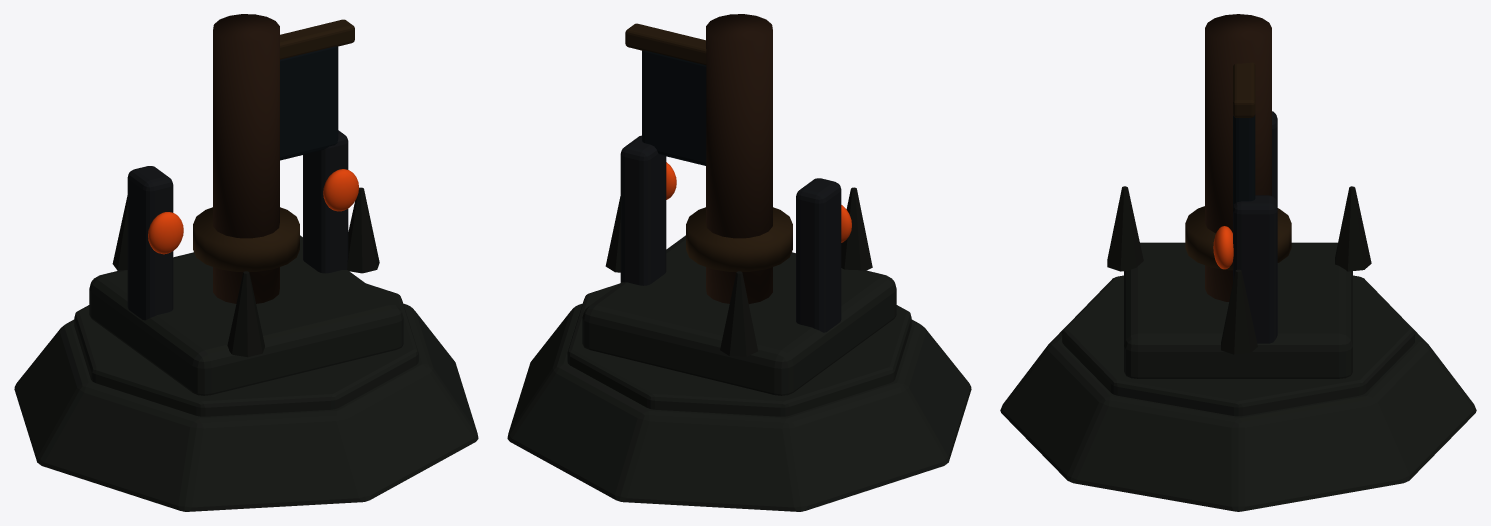
The model's file is TowerAura1_pose.obj.
The picture shows the model from 3 angles, left to right: view 1: azimuth 30°, elevation 25°; view 2: azimuth 150°, elevation 25°; view 3: azimuth 270°, elevation 25°; orthographic projection.
Visible parts, largest first — view 1: circular_stone_dais_lower_course, carved_stone_root, oak_banner_mast, circular_stone_dais_upper_course, dark_command_banner, iron_ritual_pillar, iron_ritual_pillar.001, bronze_mast_collar, bone_command_ward.002, bronze_banner_bar, bone_command_ward, amber_pillar_rune.001 (+2 smaller); view 2: circular_stone_dais_lower_course, carved_stone_root, oak_banner_mast, circular_stone_dais_upper_course, iron_ritual_pillar, dark_command_banner, iron_ritual_pillar.001, bronze_mast_collar, bronze_banner_bar, bone_command_ward.001, bone_command_ward.002, bone_command_ward; view 3: circular_stone_dais_lower_course, carved_stone_root, circular_stone_dais_upper_course, oak_banner_mast, iron_ritual_pillar.001, bronze_mast_collar, bone_command_ward, dark_command_banner, bone_command_ward.001, bone_command_ward.002, bronze_banner_bar, amber_pillar_rune.001.
Part boxes in pixels (x1,y1,x2,y2): circular_stone_dais_lower_course: (14, 303, 478, 511); carved_stone_root: (89, 235, 403, 395); oak_banner_mast: (213, 14, 279, 303); circular_stone_dais_upper_course: (74, 283, 418, 416); dark_command_banner: (280, 46, 338, 160); iron_ritual_pillar: (127, 166, 173, 320); iron_ritual_pillar.001: (303, 130, 348, 273); bronze_mast_collar: (193, 207, 299, 271); bone_command_ward.002: (227, 271, 264, 357); bronze_banner_bar: (280, 19, 354, 59); bone_command_ward: (347, 187, 379, 273); amber_pillar_rune.001: (323, 169, 358, 211); circular_stone_dais_lower_course: (507, 303, 971, 511); carved_stone_root: (582, 235, 896, 395); oak_banner_mast: (706, 14, 772, 303); circular_stone_dais_upper_course: (567, 283, 911, 416); iron_ritual_pillar: (796, 178, 841, 332); dark_command_banner: (642, 50, 706, 165); iron_ritual_pillar.001: (620, 135, 666, 285); bronze_mast_collar: (686, 207, 792, 271); bronze_banner_bar: (625, 23, 706, 65); bone_command_ward.001: (720, 271, 757, 356); bone_command_ward.002: (841, 187, 872, 270); bone_command_ward: (605, 196, 620, 272); circular_stone_dais_lower_course: (1000, 329, 1476, 511); carved_stone_root: (1124, 242, 1352, 378); circular_stone_dais_upper_course: (1061, 275, 1415, 416); oak_banner_mast: (1205, 14, 1271, 301); iron_ritual_pillar.001: (1233, 195, 1277, 343); bronze_mast_collar: (1185, 206, 1291, 270); bone_command_ward: (1221, 269, 1257, 354); dark_command_banner: (1233, 114, 1255, 204); bone_command_ward.001: (1335, 186, 1371, 271); bone_command_ward.002: (1107, 186, 1143, 271); bronze_banner_bar: (1233, 62, 1255, 117); amber_pillar_rune.001: (1213, 226, 1233, 269).
Size of the model in its own units: 1.71 by 1.52 by 1.71.
